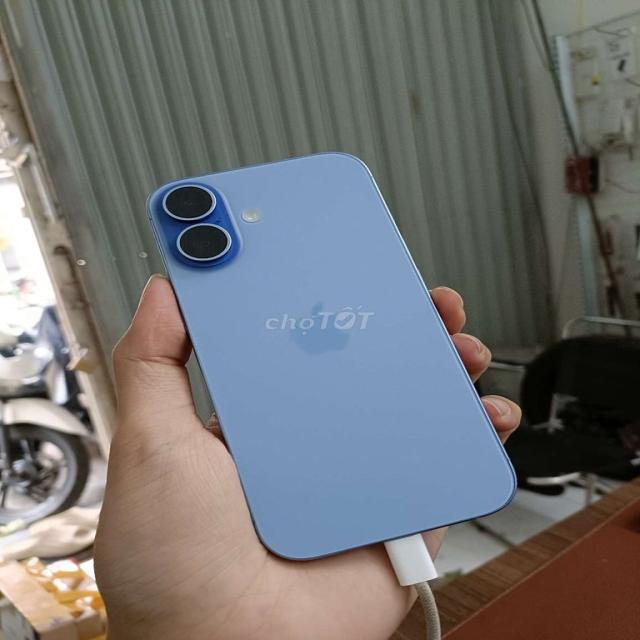gen_17: (145, 150, 538, 564)
